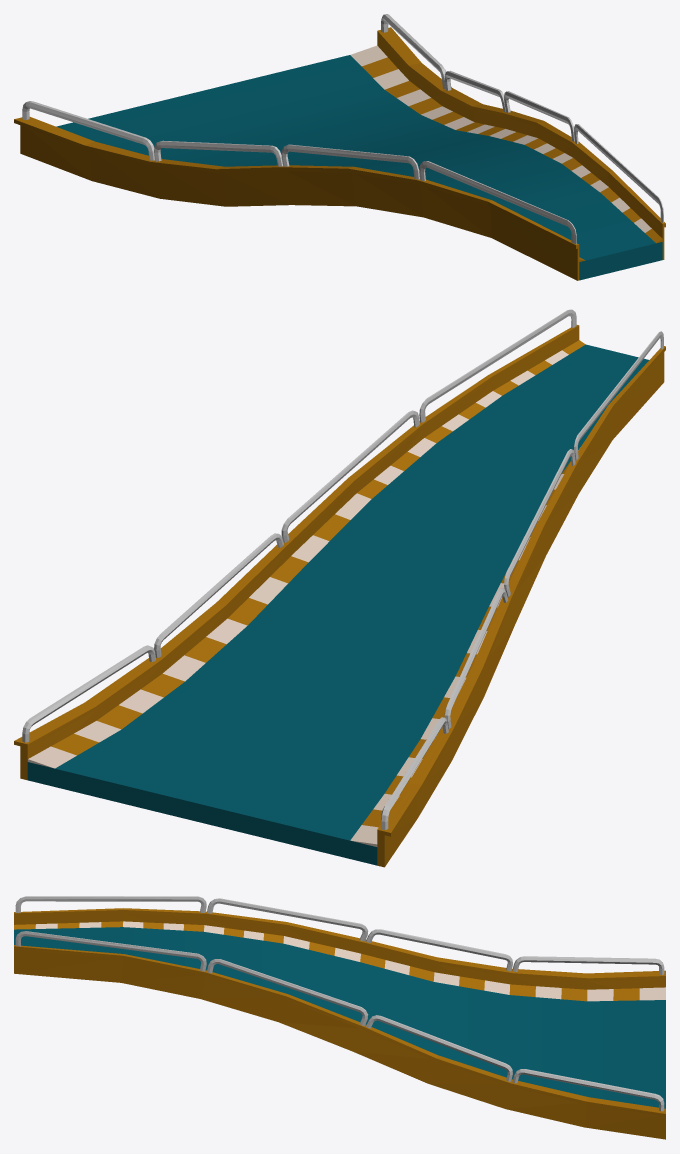
Rendered from narrowBridge02_ramp.FBX.
3 renders of one model, top to bottom at view 1: azimuth 30°, elevation 25°; view 2: azimuth 150°, elevation 25°; view 3: azimuth 270°, elevation 25°, orthographic. The views are drawn at different scales.
Visible parts, largest first — view 1: narrowBridge_Ramp, wall_r02, wall_r01, wall_l02, wall_l01, curbs_l01, curbs_l02; view 2: narrowBridge_Ramp, wall_l01, wall_r01, wall_r02, wall_l02, curbs_l01, curbs_l02, curbs_r01; view 3: narrowBridge_Ramp, wall_l02, wall_l01, wall_r02, wall_r01, curbs_r01, curbs_r02.
Part boxes in pixels (left/top/right/bottom): narrowBridge_Ramp: left=56, top=55, right=662, bottom=280; wall_r02: left=280, top=144, right=579, bottom=280; wall_r01: left=14, top=101, right=291, bottom=206; wall_l02: left=502, top=91, right=665, bottom=259; wall_l01: left=377, top=14, right=505, bottom=128; curbs_l01: left=350, top=45, right=504, bottom=135; curbs_l02: left=489, top=129, right=662, bottom=243; narrowBridge_Ramp: left=27, top=344, right=648, bottom=865; wall_l01: left=14, top=533, right=290, bottom=780; wall_r01: left=377, top=588, right=514, bottom=867; wall_r02: left=504, top=331, right=665, bottom=624; wall_l02: left=281, top=309, right=579, bottom=555; curbs_l01: left=28, top=556, right=308, bottom=768; curbs_l02: left=291, top=340, right=585, bottom=562; curbs_r01: left=350, top=606, right=497, bottom=846; narrowBridge_Ramp: left=14, top=927, right=665, bottom=1108; wall_l02: left=14, top=931, right=368, bottom=1051; wall_l01: left=353, top=1015, right=665, bottom=1139; wall_r02: left=14, top=896, right=368, bottom=953; wall_r01: left=361, top=929, right=665, bottom=989; curbs_r01: left=360, top=953, right=665, bottom=1001; curbs_r02: left=14, top=921, right=360, bottom=961.
Size of what is drawn, in the model's own units: 208 by 400 by 106.
